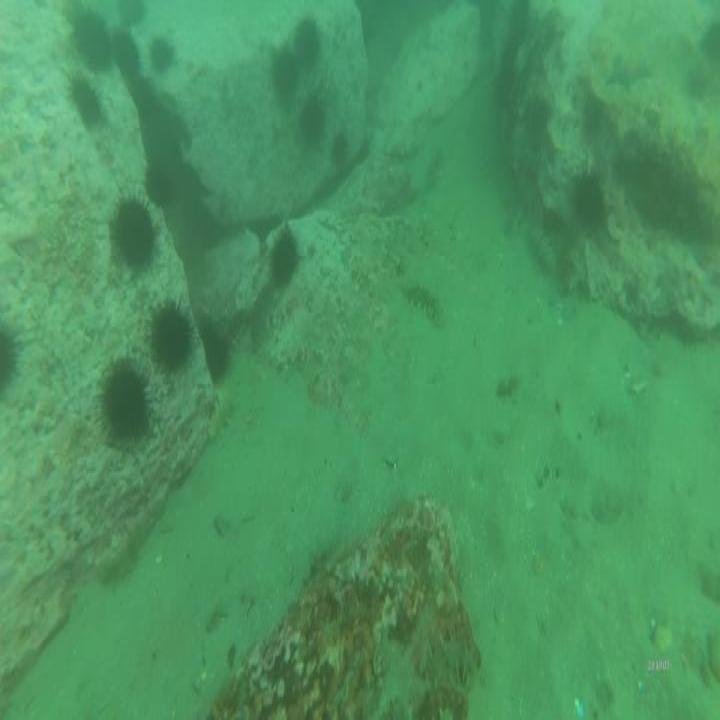echinus: (94, 354, 159, 455), (146, 295, 202, 382), (105, 183, 157, 272), (264, 215, 305, 299), (570, 160, 608, 236), (197, 306, 233, 386), (70, 9, 112, 73), (70, 76, 110, 128), (267, 48, 304, 103), (288, 16, 325, 71), (0, 320, 26, 393), (139, 156, 171, 210), (296, 92, 328, 142), (148, 34, 179, 76), (114, 0, 144, 32), (330, 126, 349, 169)
holothurian: (419, 631, 480, 695), (404, 281, 445, 331)
starfish: (610, 50, 655, 92)
